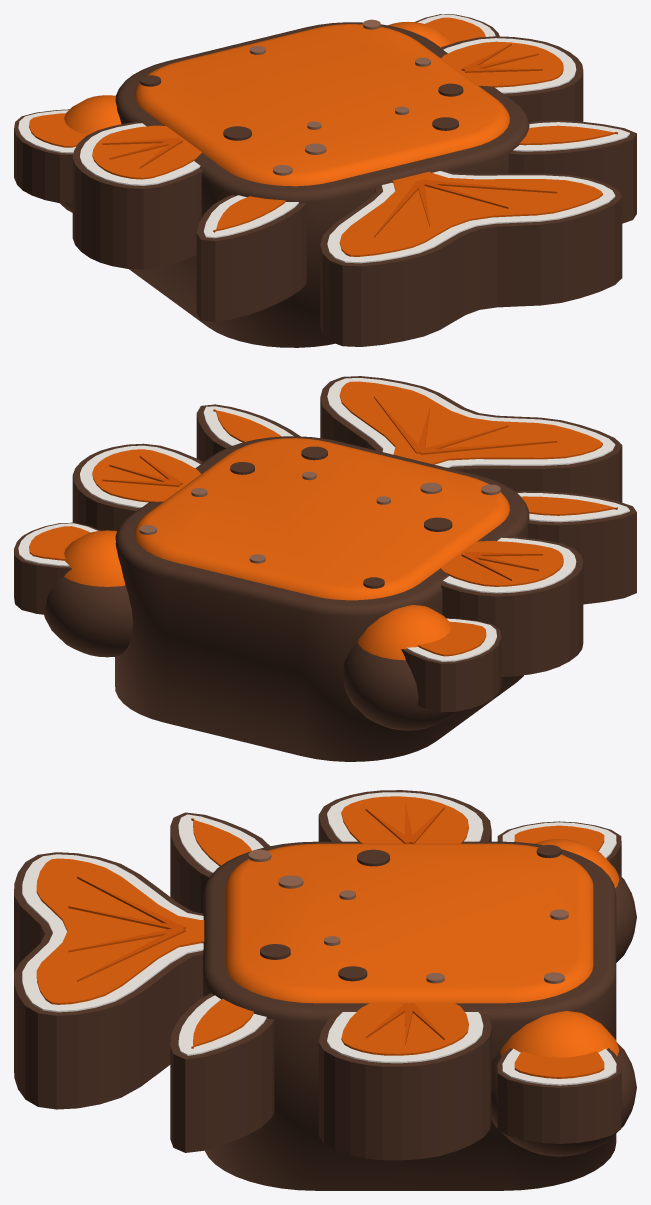
The model's file is body_peixe.fbx.
3 views of the same model, one above another, from view 1: azimuth 30°, elevation 25°; view 2: azimuth 150°, elevation 25°; view 3: azimuth 270°, elevation 25° (orthographic). The views are drawn at different scales.
Visible parts, largest first — view 1: body_peixe_corpo, body_peixe_mao_esq, body_peixe_mao; view 2: body_peixe_corpo, body_peixe_mao_esq, body_peixe_mao; view 3: body_peixe_corpo, body_peixe_mao, body_peixe_mao_esq.
Part boxes in pixels (box(x1,y1,x2,y2)): body_peixe_corpo: box(72, 19, 636, 347); body_peixe_mao_esq: box(14, 95, 121, 212); body_peixe_mao: box(388, 14, 499, 47); body_peixe_corpo: box(72, 376, 636, 761); body_peixe_mao_esq: box(342, 605, 501, 730); body_peixe_mao: box(14, 522, 133, 657); body_peixe_corpo: box(14, 790, 616, 1190); body_peixe_mao: box(491, 1011, 636, 1156); body_peixe_mao_esq: box(497, 821, 636, 962).
Size of the model in its own units: 6.33 by 2.03 by 6.03.
1 material, 1 textured.
